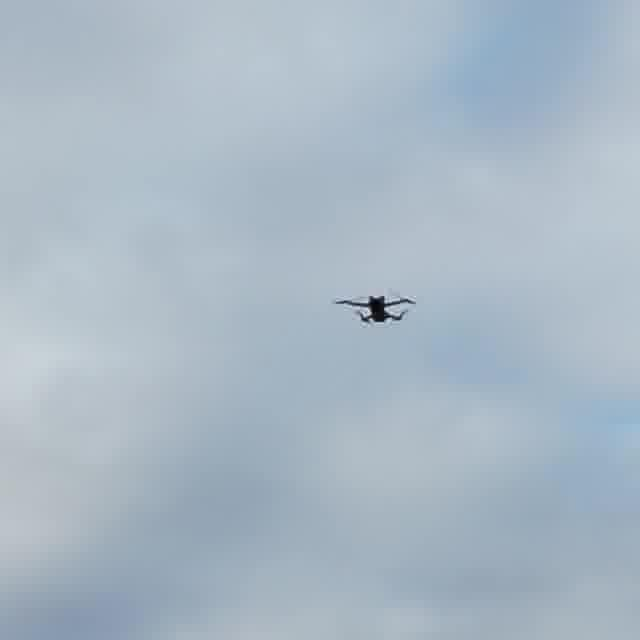Drohne: (336, 295, 415, 323)
